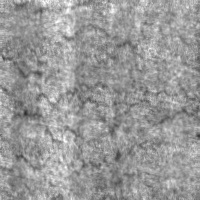crazing: (1, 80, 184, 161)
